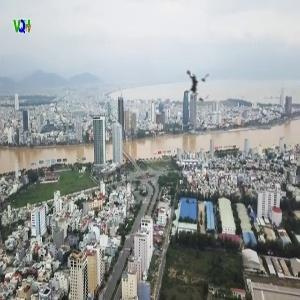drone: (168, 55, 229, 116)
